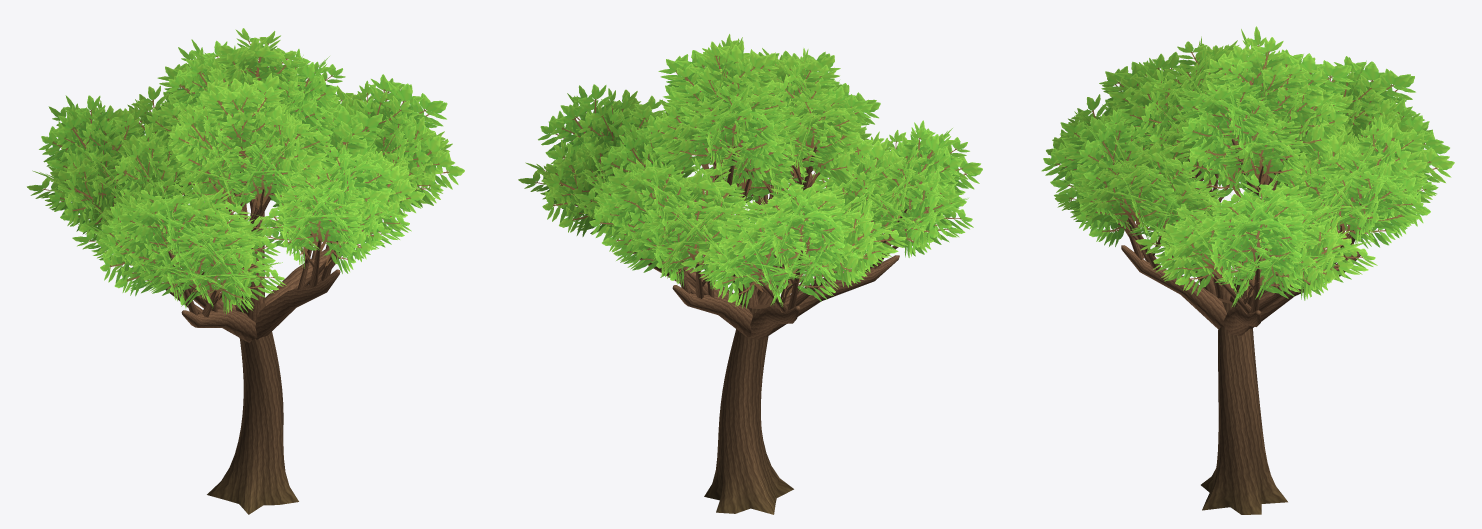
Rendered from green-tree.glb.
3 views of the same model, side by side, from view 1: azimuth 30°, elevation 25°; view 2: azimuth 150°, elevation 25°; view 3: azimuth 270°, elevation 25° (orthographic).
Visible parts, largest first — view 1: canopy-foliage, OakBark; view 2: canopy-foliage, OakBark; view 3: canopy-foliage, OakBark.
Boxes of the visible parts, x1,y1,x2,y2 form: canopy-foliage: (27, 28, 464, 314); OakBark: (100, 151, 342, 514); canopy-foliage: (518, 34, 982, 308); OakBark: (611, 146, 910, 514); canopy-foliage: (1041, 26, 1454, 307); OakBark: (1118, 131, 1368, 514).
Size of the model in its own units: 5.1 by 5.55 by 4.7.
2 materials, 2 textured.
